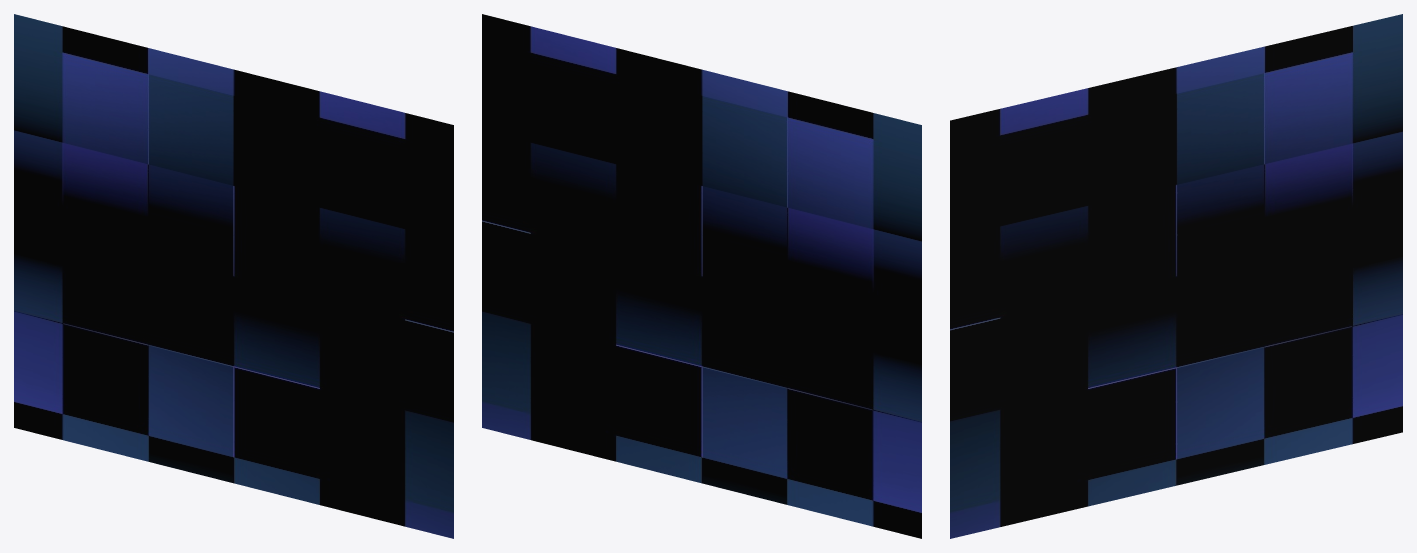
The model's file is Wall_EV.fbx.
3 renders of one model, left to right at view 1: azimuth 30°, elevation 25°; view 2: azimuth 210°, elevation 25°; view 3: azimuth 270°, elevation 25°, orthographic.
Visible parts, largest first — view 1: Wall_E_1; view 2: Wall_E_1; view 3: Wall_E_1.
Boxes of the visible parts, <box> form: Wall_E_1: <box>14,14,453,538</box>; Wall_E_1: <box>482,14,921,538</box>; Wall_E_1: <box>950,14,1402,538</box>.
Size of the model in its own units: 143 by 261 by 256.
